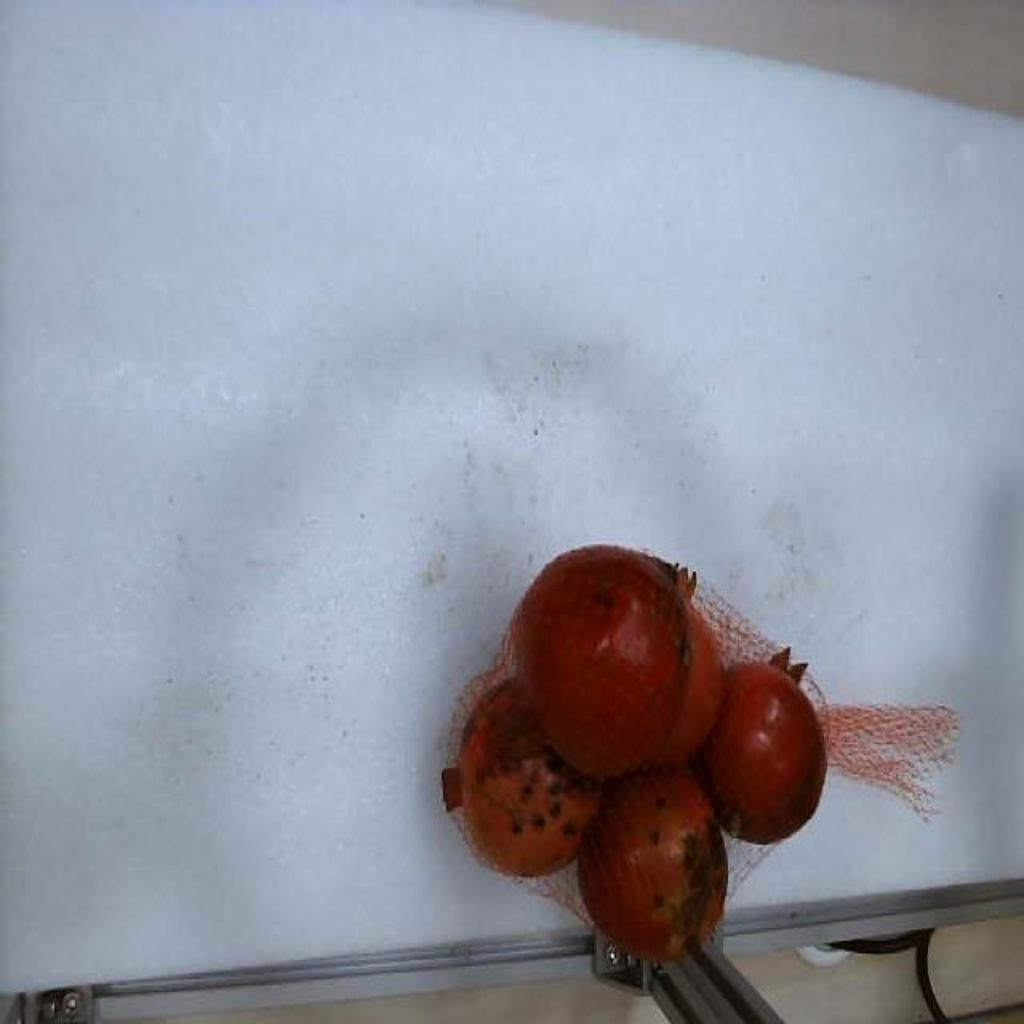potato: (694, 664, 826, 843)
